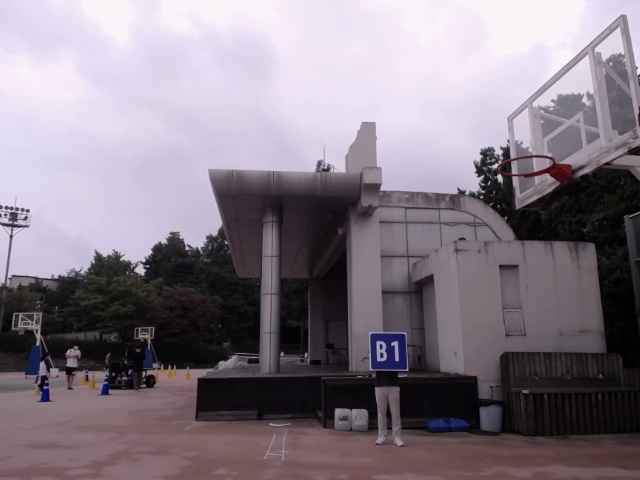delivery_b1: (369, 332, 408, 370)
